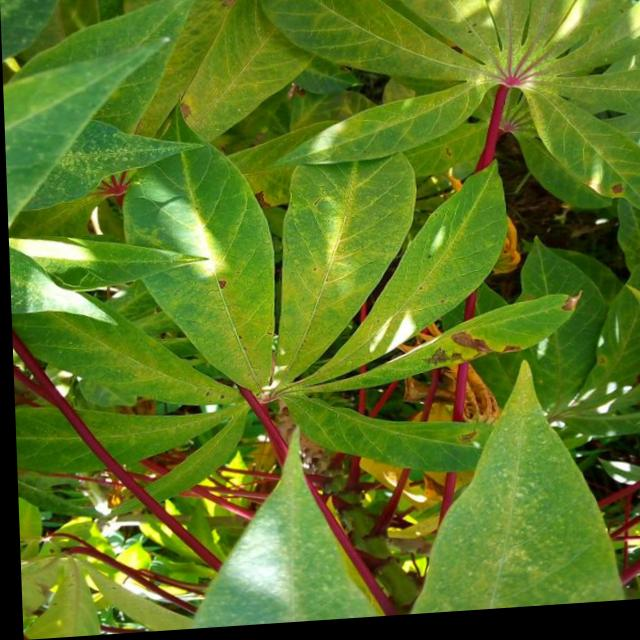Mosaico: (404, 297, 605, 368)
